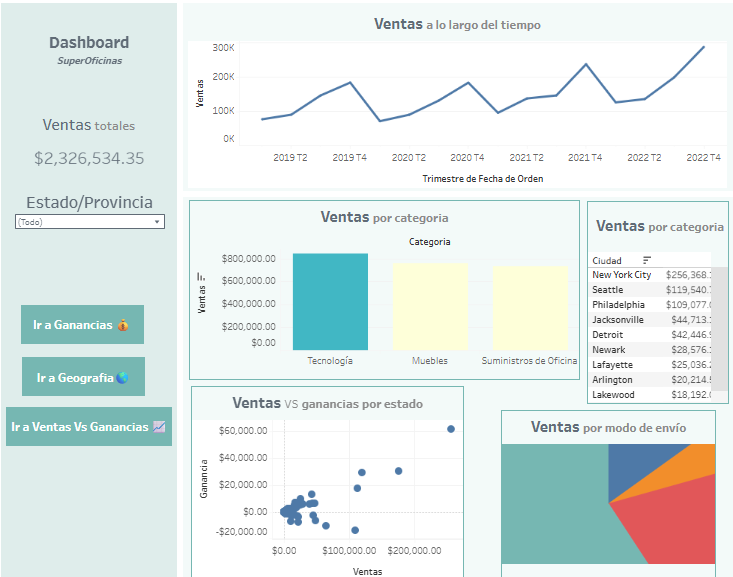

The dashboard page shown, as its layout file describes it:
{"tool":"tableau","page":{"name":"Ventas 👨💼","canvas":[1000,800],"ordinal":3},"visuals":[{"type":"blank","box":[8,8,242,784]},{"type":"blank","box":[250,8,742,258]},{"type":"text","box":[13,15,233,116]},{"type":"worksheet","title":"Hoja 6","mark":"Automatic","rows":["Ventas"],"cols":["Fecha de Orden"],"box":[261,19,719,240]},{"type":"worksheet","title":"Ventas Tot","mark":"Automatic","box":[15,154,228,89]},{"type":"filter","title":"Ventas Tot","param":"[federated.0m6z9rc1gnby5e1frly9e0iwino3].[none:Estado/Provincia:nk]","box":[29,263,202,68]},{"type":"blank","box":[250,266,742,526]},{"type":"worksheet","title":"Ventas por cat","mark":"Bar","rows":["Ventas"],"cols":["Categoria"],"box":[261,274,524,242]},{"type":"worksheet","title":"Ciudades","mark":"Automatic","rows":["Ciudad"],"box":[792,275,191,273]},{"type":"dashboard-object","box":[38,414,164,52]},{"type":"dashboard-object","box":[40,484,164,52]},{"type":"worksheet","title":"Hoja 5","mark":"Circle","rows":["Ganancia"],"cols":["Ventas"],"box":[265,523,364,261]},{"type":"dashboard-object","box":[19,550,221,52]},{"type":"worksheet","title":"Hoja 3","mark":"Pie","box":[678,555,287,226]}]}

Visuals, with their boxes in screenshot pixels (x1, y1, x2, y2), scaled from the page's 1000x800 canvas onto the 733x577 screenshot:
blank: <box>6,6,183,571</box>
blank: <box>183,6,727,192</box>
text: <box>10,11,180,94</box>
"Hoja 6" worksheet: <box>191,14,718,187</box>
"Ventas Tot" worksheet: <box>11,111,178,175</box>
"Ventas Tot" filter: <box>21,190,169,239</box>
blank: <box>183,192,727,571</box>
"Ventas por cat" worksheet (Bar marks): <box>191,198,575,372</box>
"Ciudades" worksheet: <box>581,198,721,395</box>
dashboard-object: <box>28,299,148,336</box>
dashboard-object: <box>29,349,150,387</box>
"Hoja 5" worksheet (Circle marks): <box>194,377,461,565</box>
dashboard-object: <box>14,397,176,434</box>
"Hoja 3" worksheet (Pie marks): <box>497,400,707,563</box>
